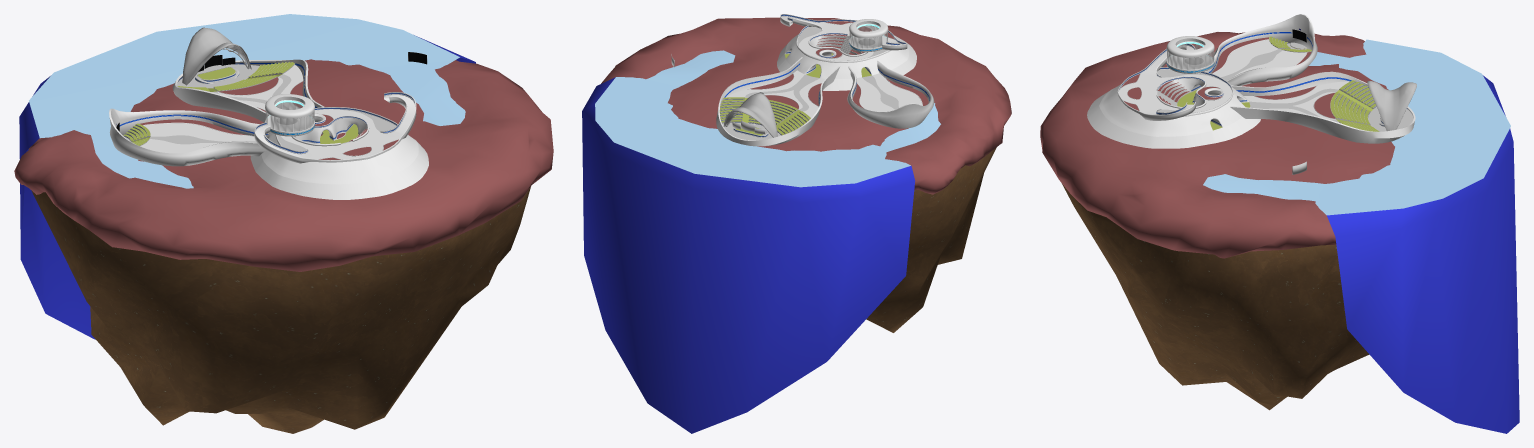
Rendered from CenarioIELFBX.fbx.
The picture shows the model from 3 angles, left to right: view 1: azimuth 30°, elevation 25°; view 2: azimuth 150°, elevation 25°; view 3: azimuth 270°, elevation 25°; orthographic projection. The views are drawn at different scales.
Visible parts, largest first — view 1: Ilha Fundo, Ilha Base, Ilha_Agua, Base_Lobby_Principal, Base_Auditorio_Menor, Base_Auditorio_Principal, Base_Lobby_Baixo, Corrimao_Base_Lobby_Principal, Auditorio_Coberta, Teto__Reuniao_E, Vidro_E, Palco Base Auditorio Maior (+1 smaller); view 2: Ilha_Agua, Ilha Base, Ilha Fundo, Base_Auditorio_Menor, Base_Auditorio_Principal, Base_Lobby_Principal, Corrimao_Base_Lobby_Principal, Auditorio_Coberta, Escada_Lateral_Auditorio_Principal, Base_Lobby_Baixo, Teto__Reuniao_E, Vidro_E (+1 smaller); view 3: Ilha_Agua, Ilha Base, Ilha Fundo, Base_Lobby_Principal, Base_Auditorio_Principal, Base_Auditorio_Menor, Base_Lobby_Baixo, Corrimao_Base_Lobby_Principal, Auditorio_Coberta, Escada_Centro_Auditorio_Principal, Escada_Lateral_Auditorio_Principal, Teto__Reuniao_E (+1 smaller).
Boxes of the visible parts, box(x1,y1,x2,y2) form: Ilha Fundo: box(31, 187, 530, 433); Ilha Base: box(14, 59, 553, 271); Ilha_Agua: box(19, 14, 475, 339); Base_Lobby_Principal: box(255, 95, 418, 184); Base_Auditorio_Menor: box(109, 108, 269, 166); Base_Auditorio_Principal: box(172, 59, 324, 122); Base_Lobby_Baixo: box(250, 142, 428, 199); Corrimao_Base_Lobby_Principal: box(254, 92, 416, 163); Auditorio_Coberta: box(182, 27, 251, 85); Teto__Reuniao_E: box(265, 94, 314, 118); Vidro_E: box(265, 102, 314, 131); Palco Base Auditorio Maior: box(177, 64, 259, 88); Ilha_Agua: box(582, 50, 940, 433); Ilha Base: box(601, 17, 1011, 194); Ilha Fundo: box(866, 147, 996, 332); Base_Auditorio_Menor: box(847, 60, 934, 128); Base_Auditorio_Principal: box(716, 57, 840, 146); Base_Lobby_Principal: box(781, 16, 908, 78); Corrimao_Base_Lobby_Principal: box(780, 14, 907, 62); Auditorio_Coberta: box(723, 93, 777, 137); Escada_Lateral_Auditorio_Principal: box(719, 97, 810, 135); Base_Lobby_Baixo: box(777, 37, 916, 90); Teto__Reuniao_E: box(849, 19, 888, 38); Vidro_E: box(849, 26, 887, 48); Ilha_Agua: box(1203, 39, 1519, 433); Ilha Base: box(1040, 32, 1394, 258); Ilha Fundo: box(1062, 184, 1369, 410); Base_Lobby_Principal: box(1099, 45, 1248, 136); Base_Auditorio_Principal: box(1230, 71, 1415, 143); Base_Auditorio_Menor: box(1205, 14, 1317, 85); Base_Lobby_Baixo: box(1087, 90, 1260, 148); Corrimao_Base_Lobby_Principal: box(1117, 43, 1233, 120); Auditorio_Coberta: box(1367, 81, 1416, 131); Escada_Centro_Auditorio_Principal: box(1330, 92, 1370, 125); Escada_Lateral_Auditorio_Principal: box(1339, 80, 1379, 131); Teto__Reuniao_E: box(1166, 36, 1214, 57).
Bounding box in the file's own units: 195 × 158 × 192.
